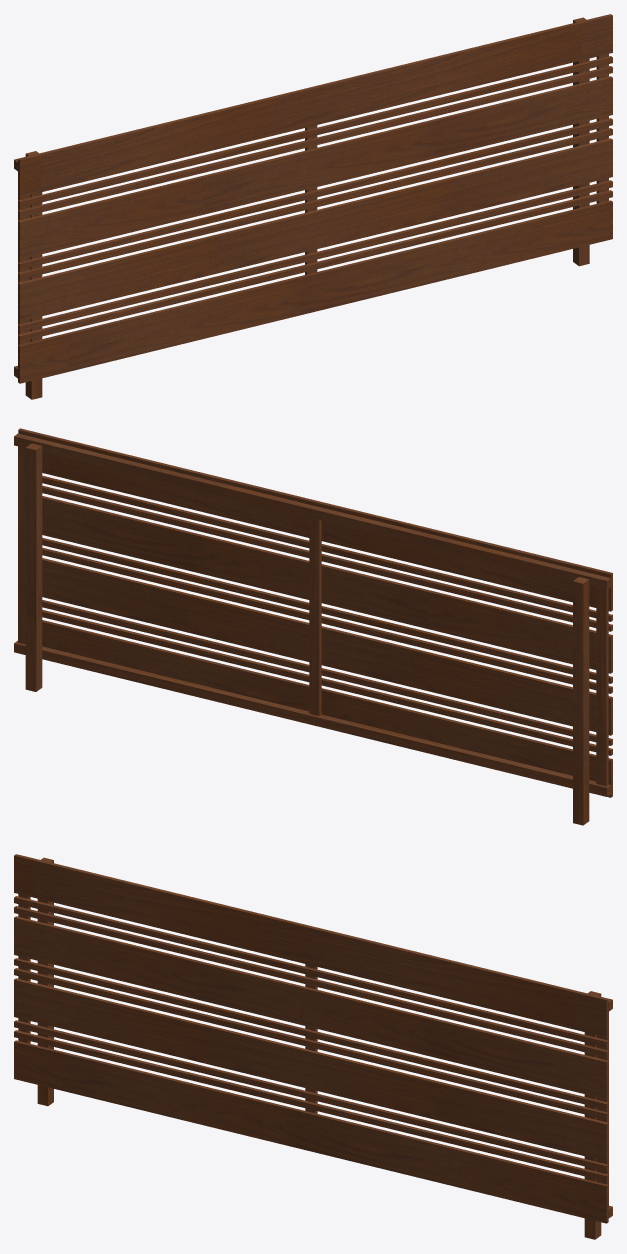
The model's file is EAF-plus-120-18_w1999-h800_walnut.fbx.
3 views of the same model, one above another, from view 1: azimuth 30°, elevation 25°; view 2: azimuth 150°, elevation 25°; view 3: azimuth 330°, elevation 25° (orthographic).
Visible parts, largest first — view 1: EAF-plus-120-18_w1999-h800_chacoalgray.004; view 2: EAF-plus-120-18_w1999-h800_chacoalgray.004; view 3: EAF-plus-120-18_w1999-h800_chacoalgray.004.
Boxes of the visible parts, x1=… form: EAF-plus-120-18_w1999-h800_chacoalgray.004: x1=14, y1=14, x2=612, y2=399; EAF-plus-120-18_w1999-h800_chacoalgray.004: x1=14, y1=428, x2=612, y2=825; EAF-plus-120-18_w1999-h800_chacoalgray.004: x1=14, y1=854, x2=612, y2=1239.
Size of the model in its own units: 200 by 80 by 7.
1 material, 1 textured.
